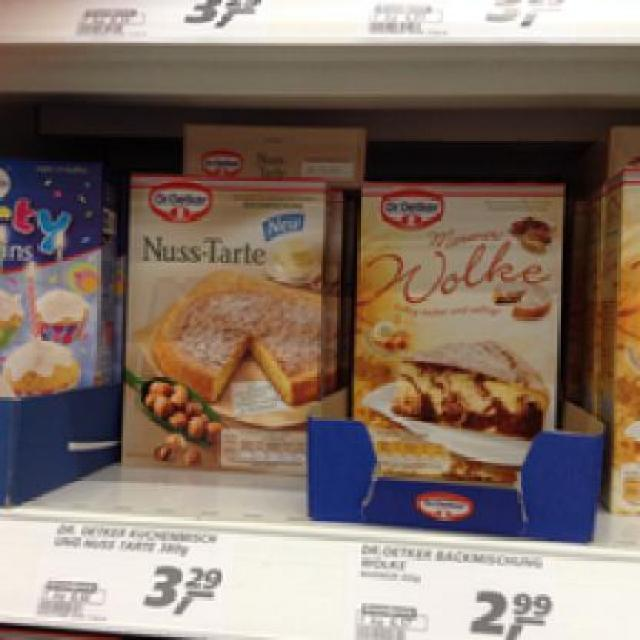Cake: (119, 165, 332, 486), (354, 177, 566, 480)
